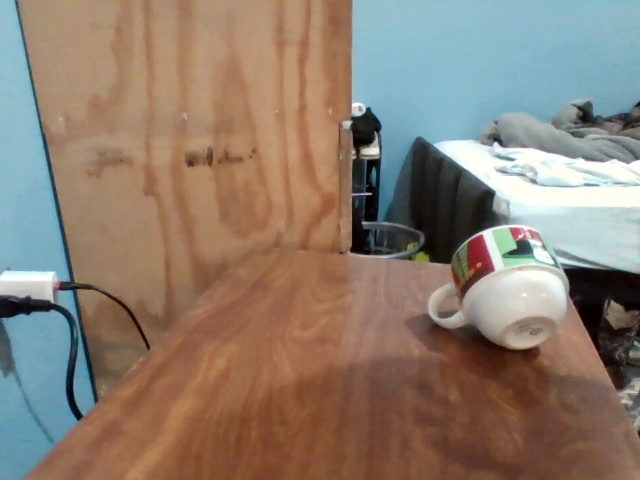taza: (427, 219, 570, 351)
